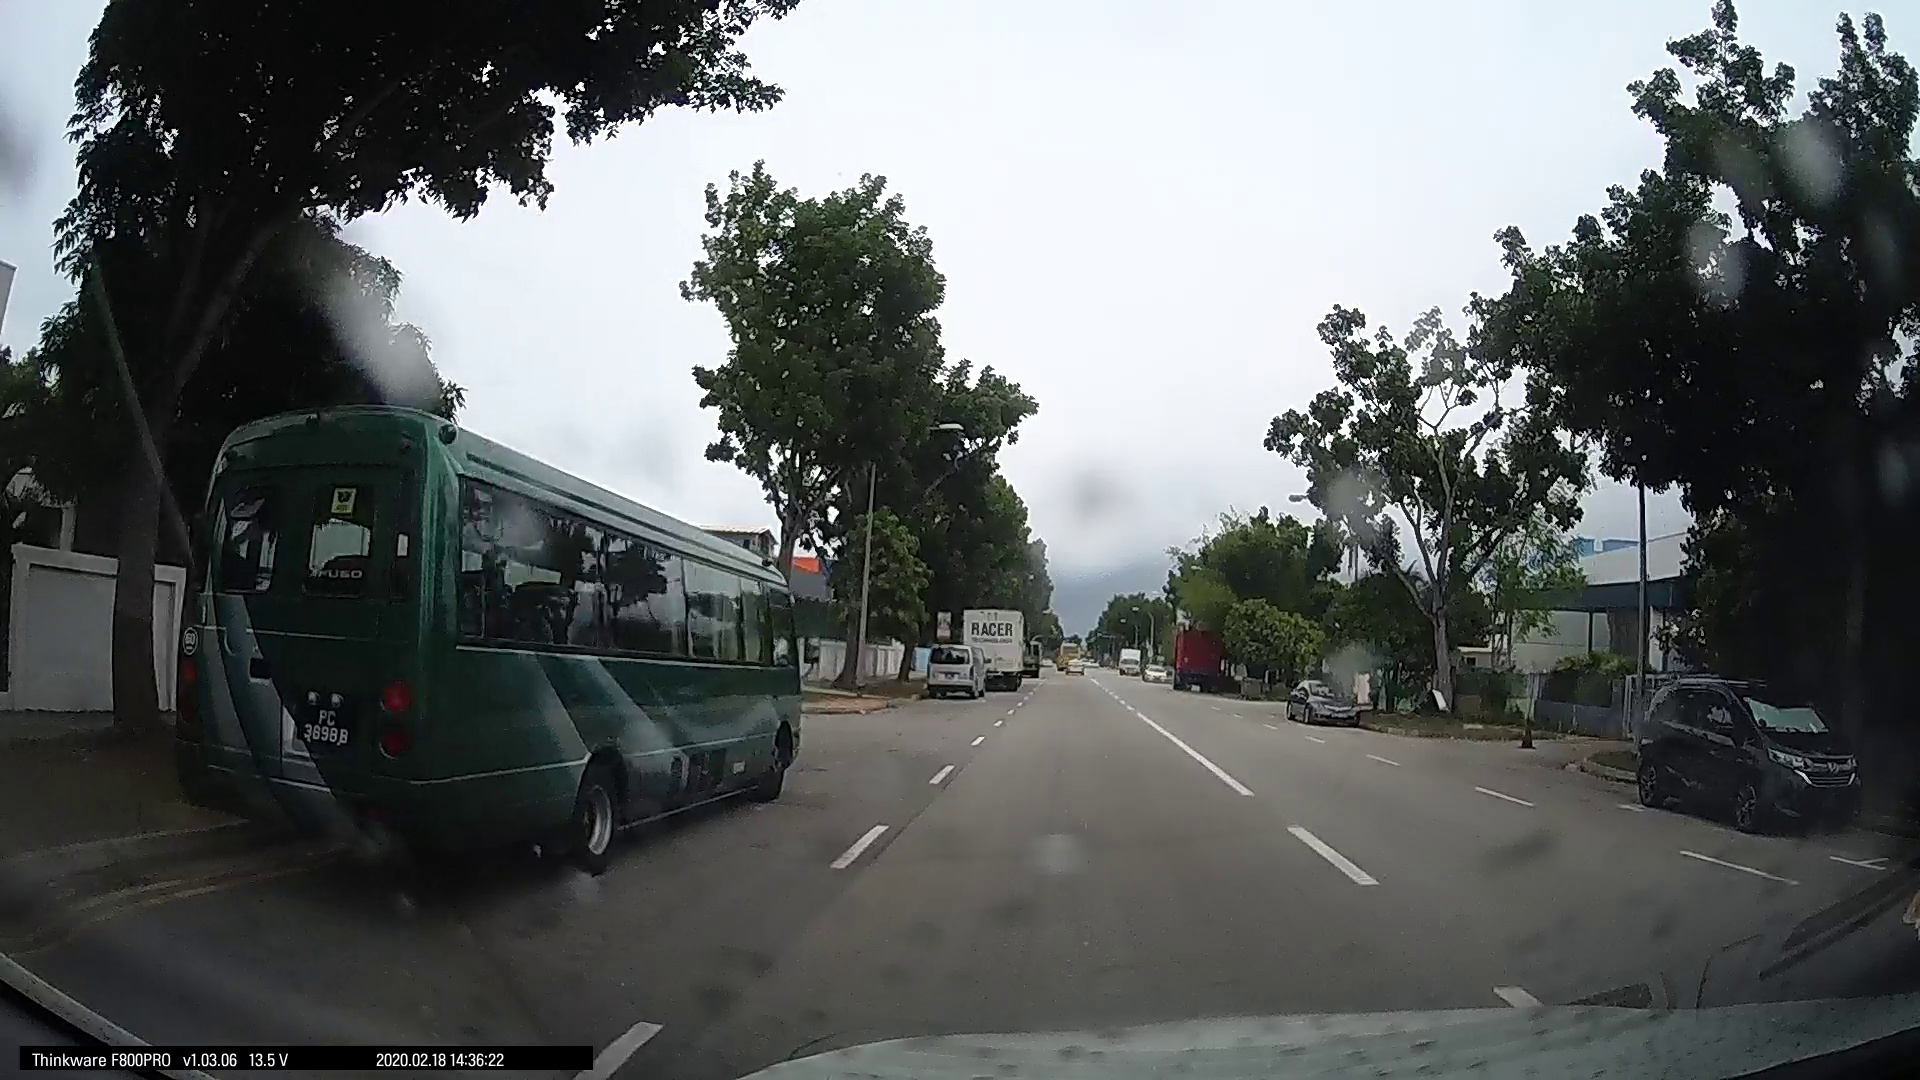Heavy Vehicle: (1159, 535, 1532, 868)
Light Vehicle: (1553, 655, 1785, 771), (256, 597, 450, 696), (1791, 690, 1916, 764), (1, 545, 94, 637)
